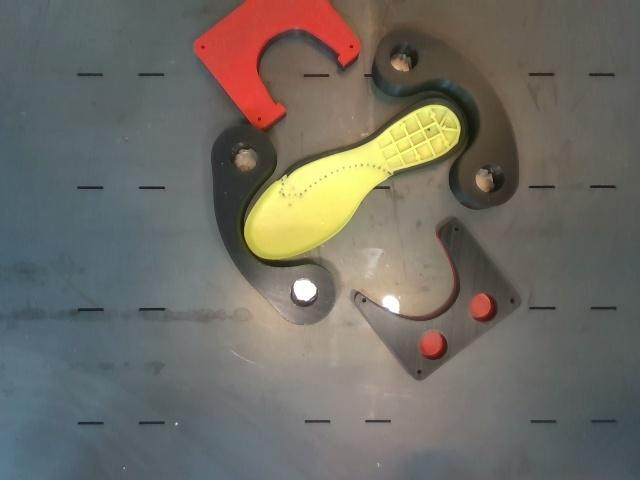shoes: (246, 101, 464, 257)
